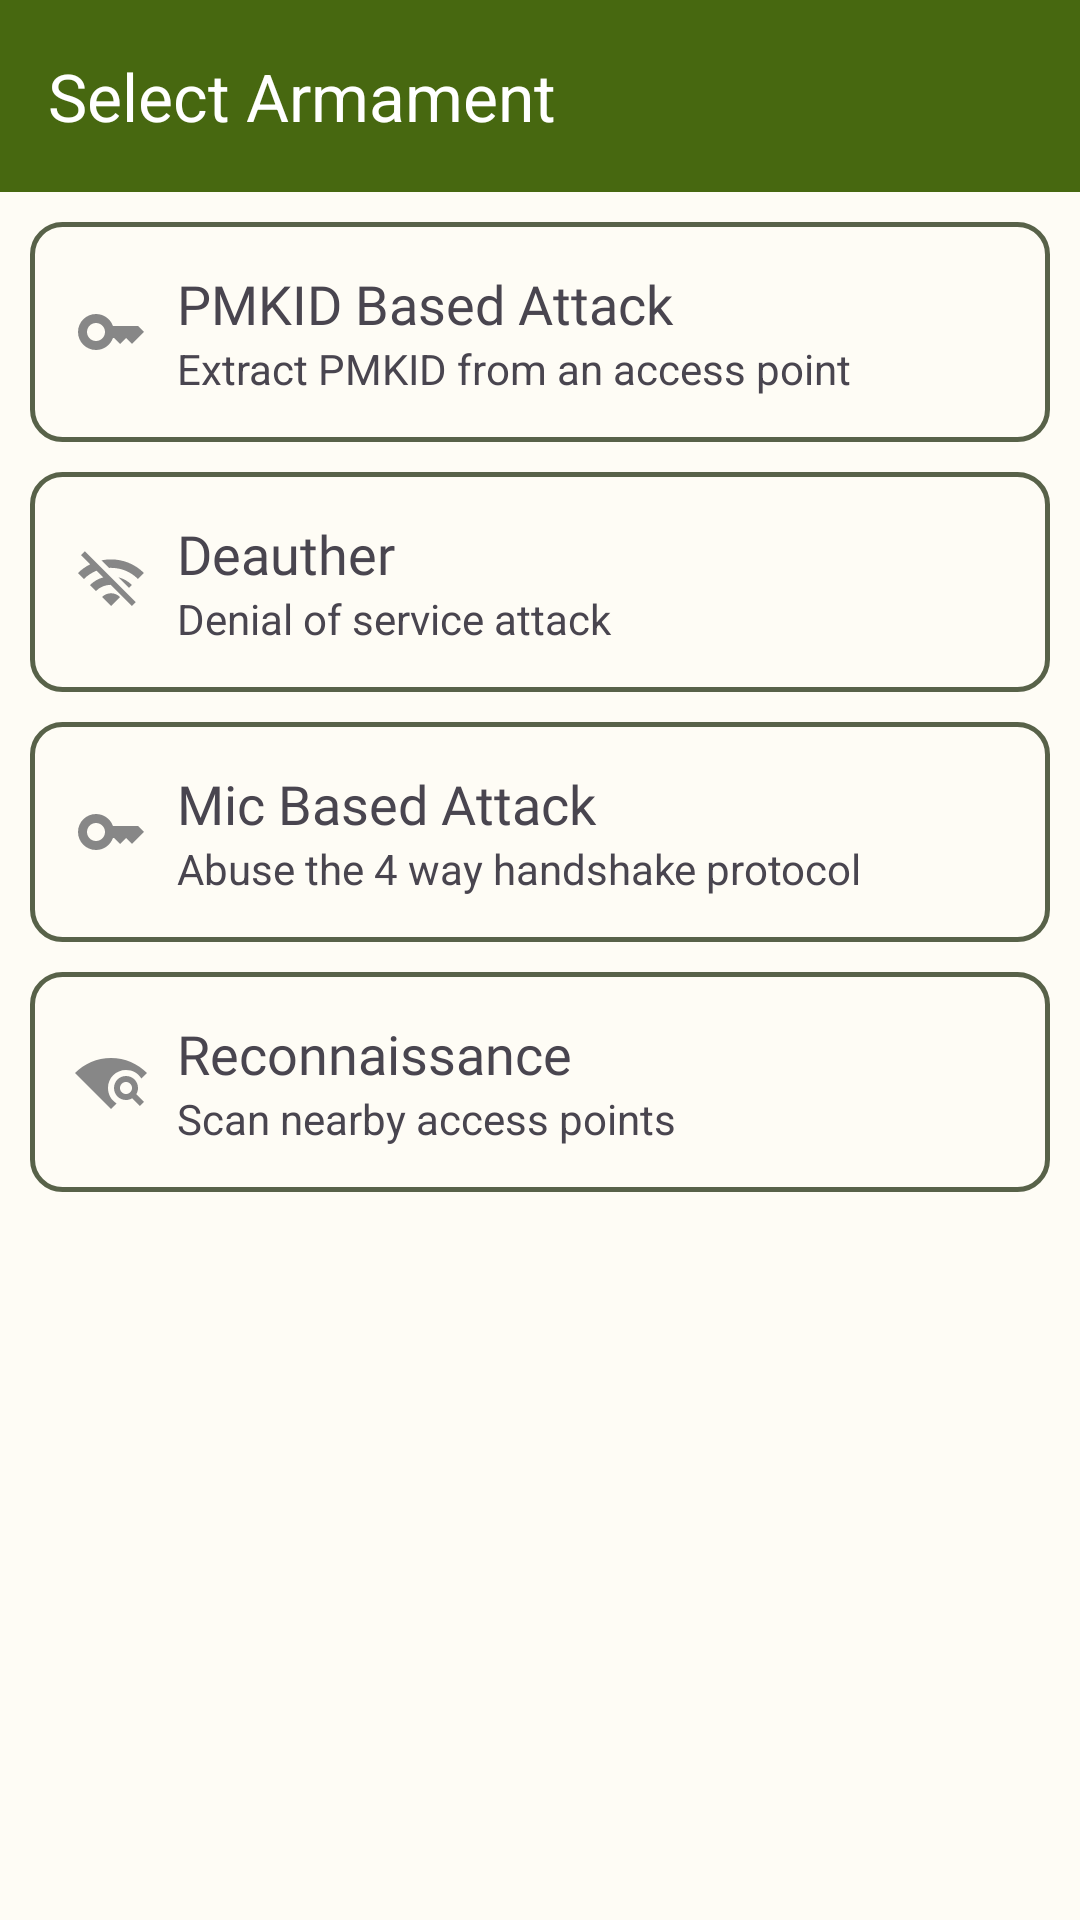

Icon bounding boxes for this 1080 × 1920 phone screenshot, format (x1,y1,x2,y2):
pmkid mic: (78,314,144,350), (78,814,144,850)
